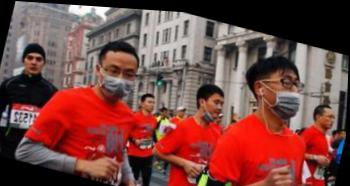NONE: (25, 53, 46, 75), (319, 106, 337, 126), (145, 96, 158, 111)
OK: (96, 56, 138, 102)
WRONG: (261, 67, 307, 118), (200, 93, 226, 120)
